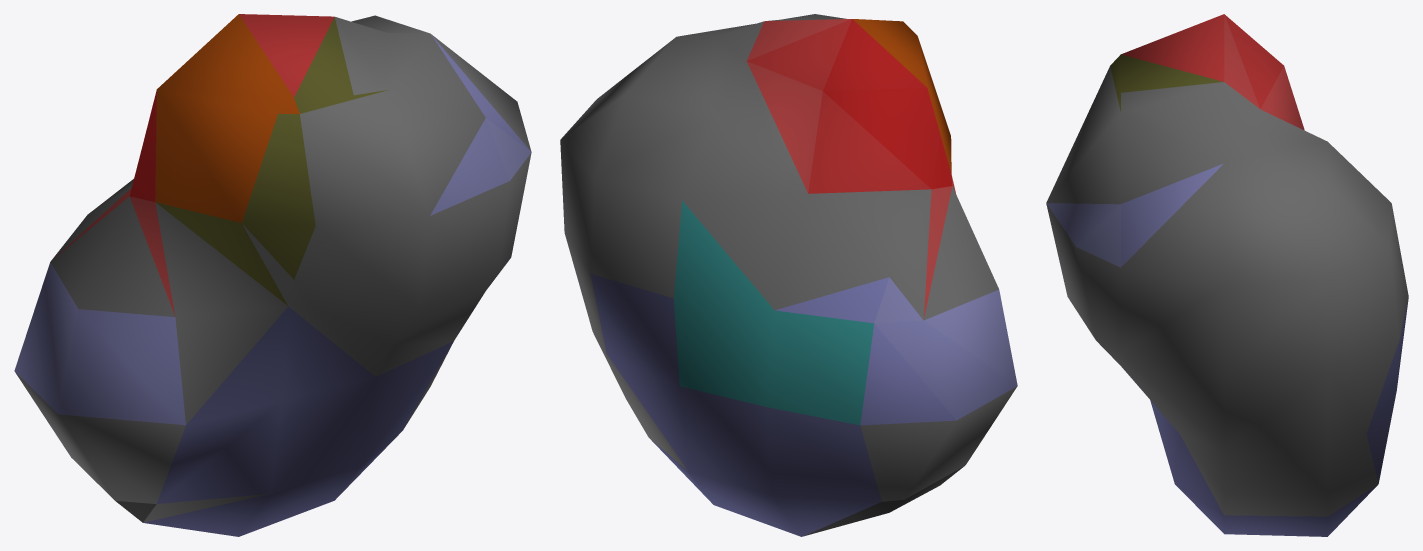
The model's file is thymine_surface_lowres.obj.
The picture shows the model from 3 angles, left to right: view 1: azimuth 30°, elevation 25°; view 2: azimuth 150°, elevation 25°; view 3: azimuth 270°, elevation 25°; orthographic projection. The views are drawn at different scales.
Visible parts, largest first — view 1: vmd_mol2_rep0; view 2: vmd_mol2_rep0; view 3: vmd_mol2_rep0.
Part boxes in pixels (box(x1,y1,x2,y2)): vmd_mol2_rep0: box(14, 14, 531, 536); vmd_mol2_rep0: box(560, 14, 1017, 536); vmd_mol2_rep0: box(1046, 14, 1408, 536).
Bounding box in the file's own units: 1.65 × 1.81 × 1.21.
